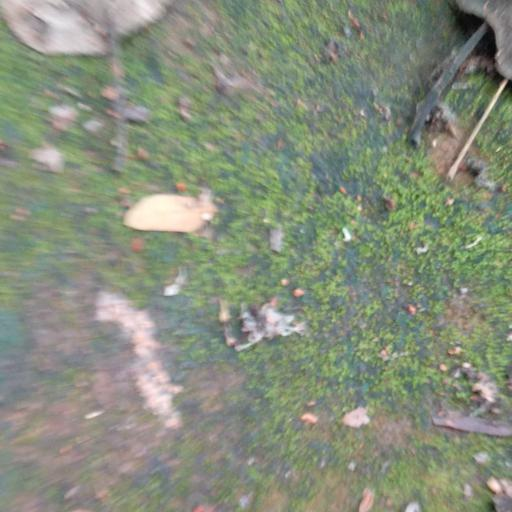algae: (136, 5, 494, 376)
